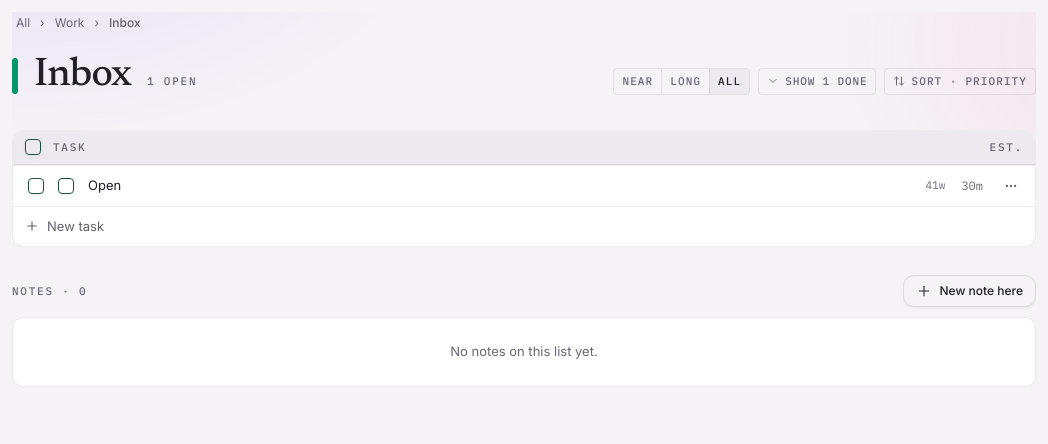
Test: SubcategoryView — 30-day completions and header (chunk 86) › Show N done counts recent completions only
The image size is (1048, 444).
Check: the heading "Inbox" is shown, box x1=34 y1=46 x2=131 y2=106
Click the button "Show 1 done". click: (817,81)
box: x1=758 y1=68 x2=876 y2=94
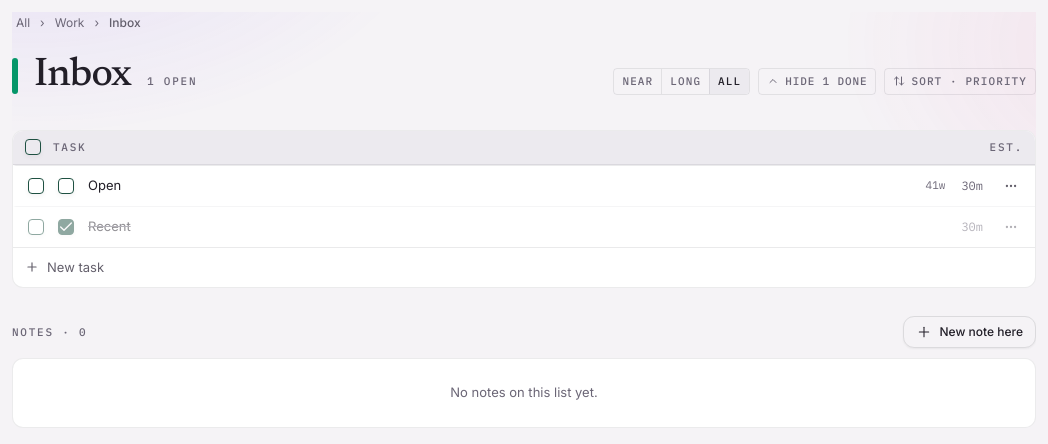
Check: the text "Recent" is shown, box x1=88 y1=218 x2=131 y2=234
